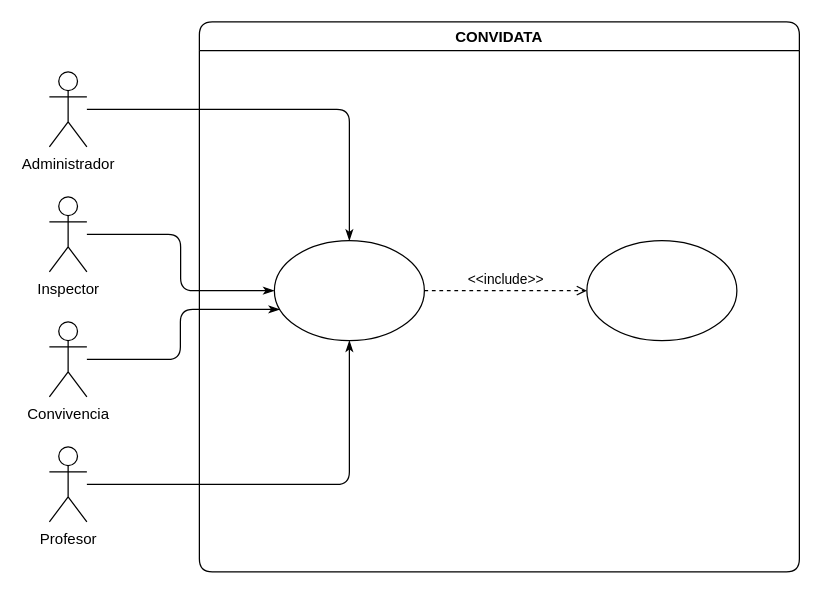
Some shapes in this 821 by 594 pixel diagram are drawn without their labels. Each missing label, with the box of its shape:
Accediendo a la pantalla Inicio: (273, 239, 424, 341)
Despliegando la tabla de Inicio: (586, 239, 737, 341)
